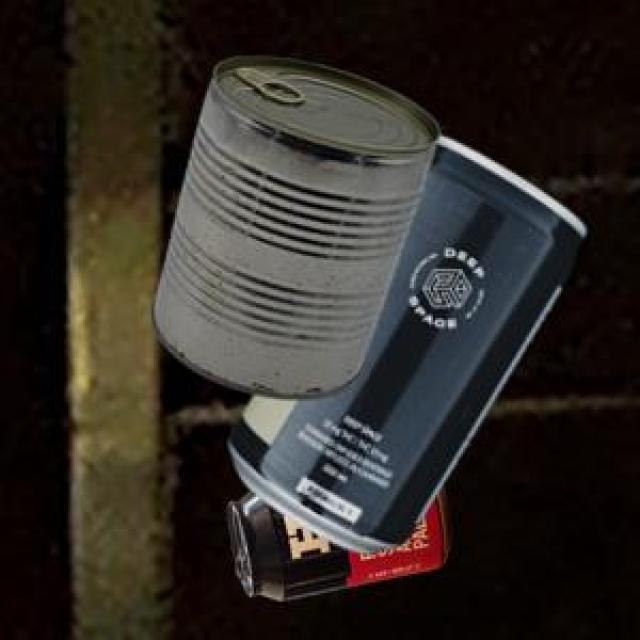Can: (225, 133, 583, 549), (148, 54, 436, 396), (225, 482, 449, 598)
